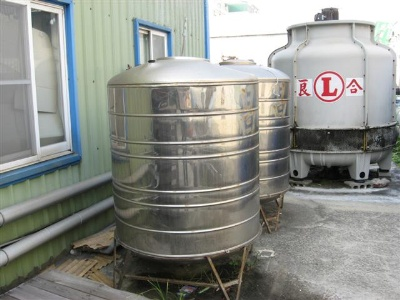water_tower: (107, 56, 263, 299), (267, 7, 397, 179)
